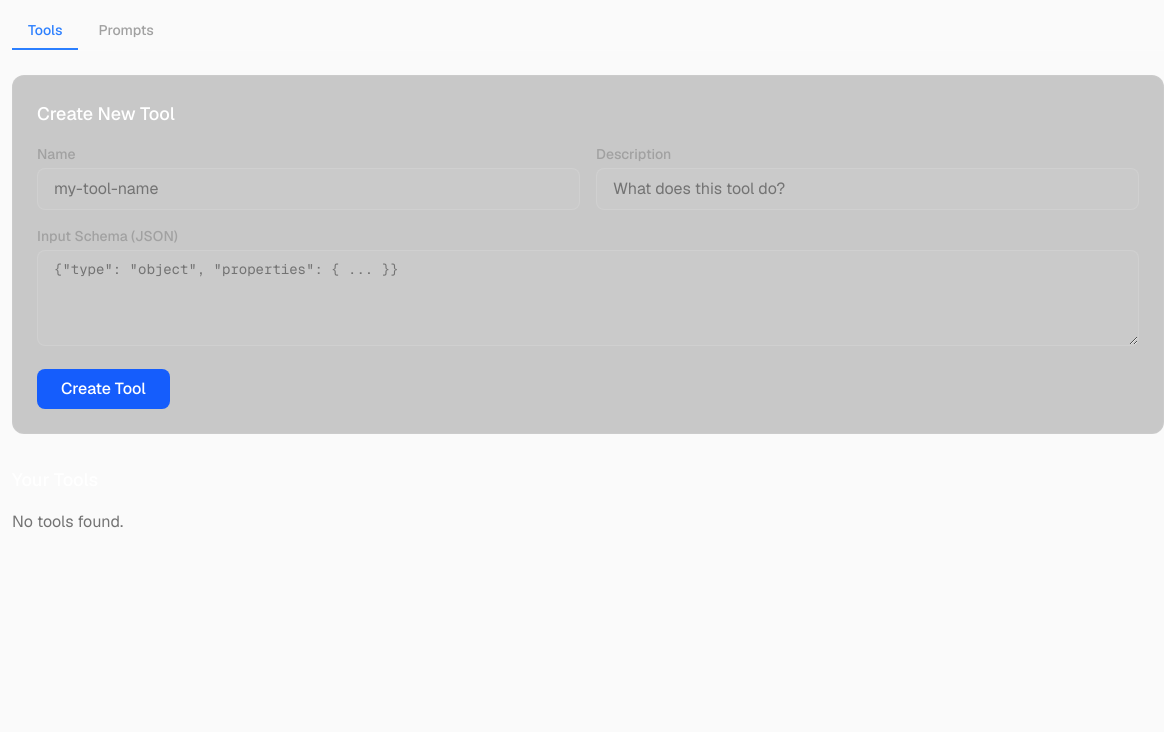
Test: McpDashboardClient › deletes a prompt
Step 1. Click the button "Prompts" → {"x": 126, "y": 31}, box [82,12,170,50]
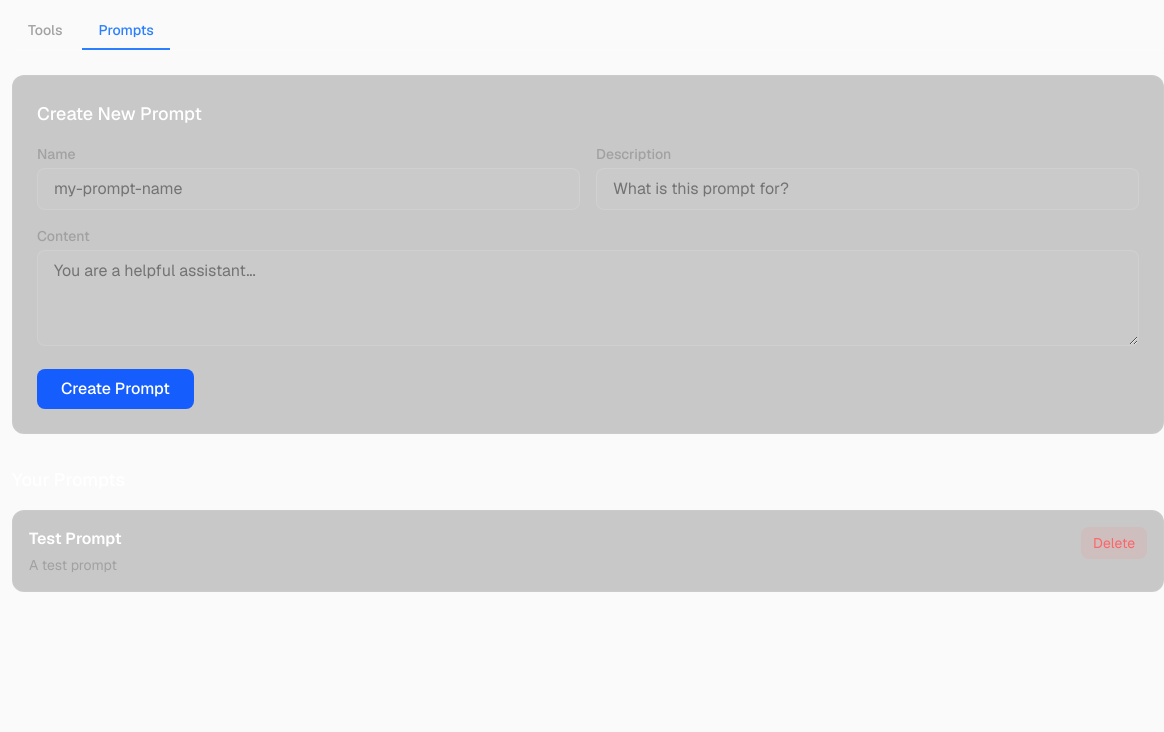
Expected: the heading "Test Prompt" is shown, [29,527,122,551]
Step 2. Click the button "Delete" → {"x": 1114, "y": 543}, box [1081,527,1147,559]
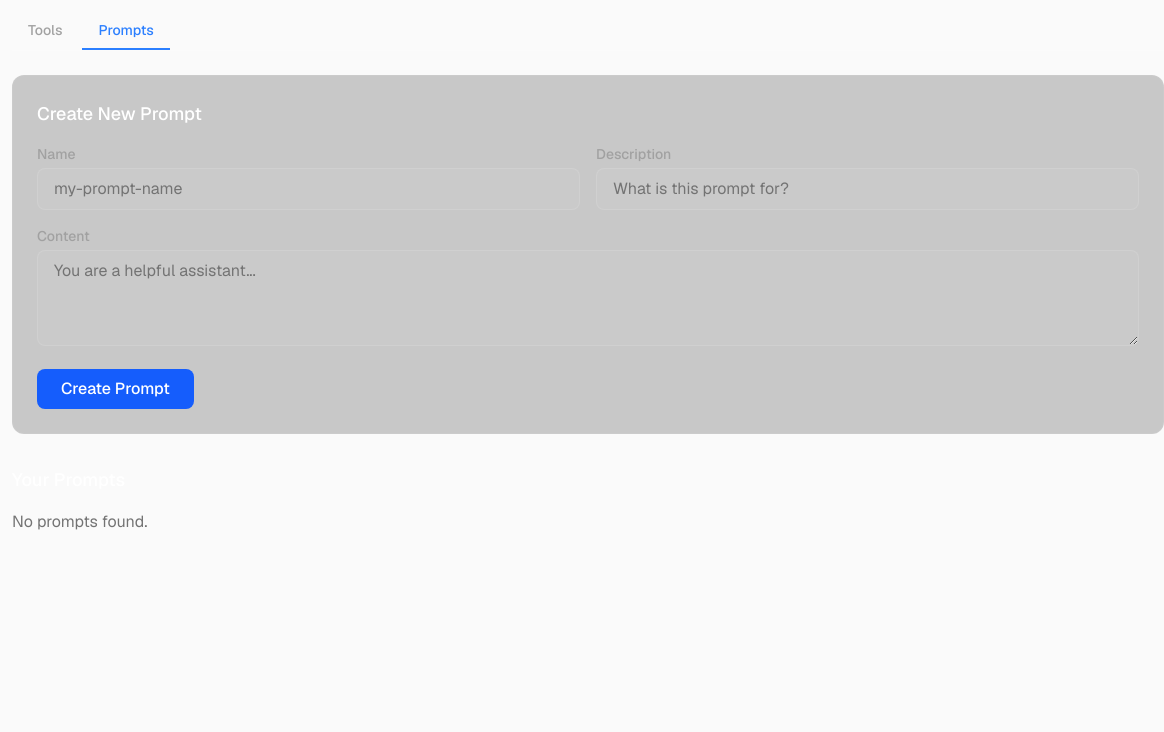
Expected: the heading "Test Prompt" is gone
